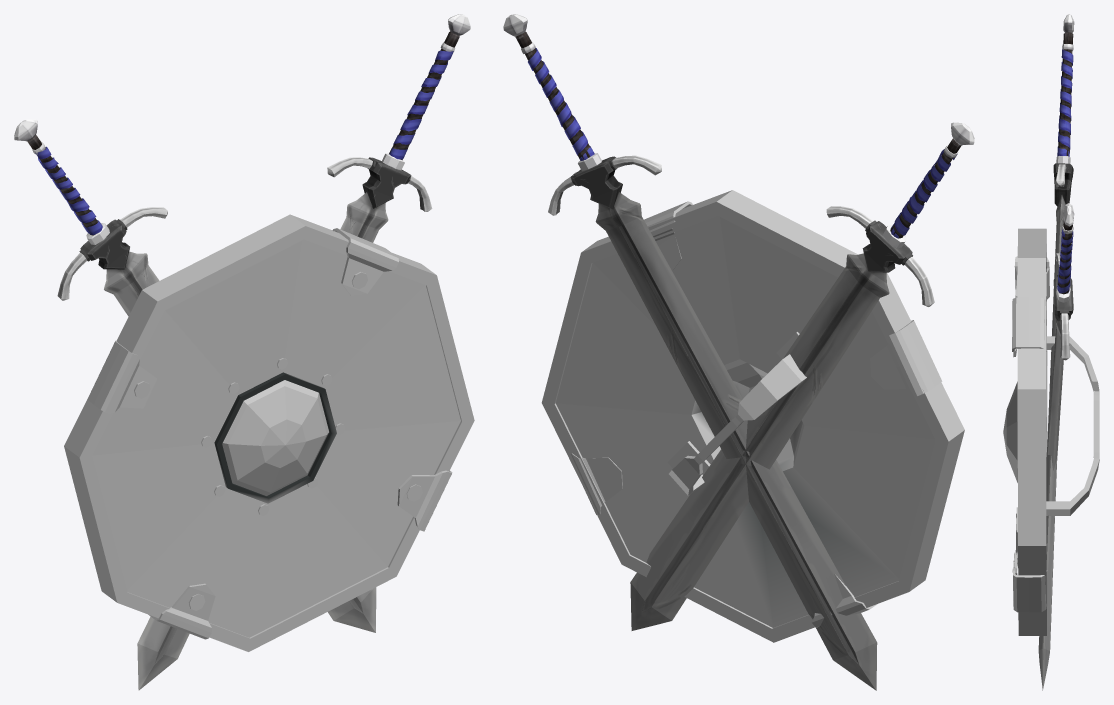
The model's file is shield_sword.fbx.
3 renders of one model, left to right at view 1: azimuth 30°, elevation 25°; view 2: azimuth 150°, elevation 25°; view 3: azimuth 270°, elevation 25°, orthographic. The views are drawn at different scales.
Visible parts, largest first — view 1: escudo.001; view 2: escudo.001; view 3: escudo.001.
Boxes of the visible parts, box(x1,y1,x2,y2) form: escudo.001: box(14, 14, 474, 690); escudo.001: box(503, 14, 974, 690); escudo.001: box(1003, 14, 1099, 690).
Size of the model in its own units: 50.03 by 61.25 by 10.15.
